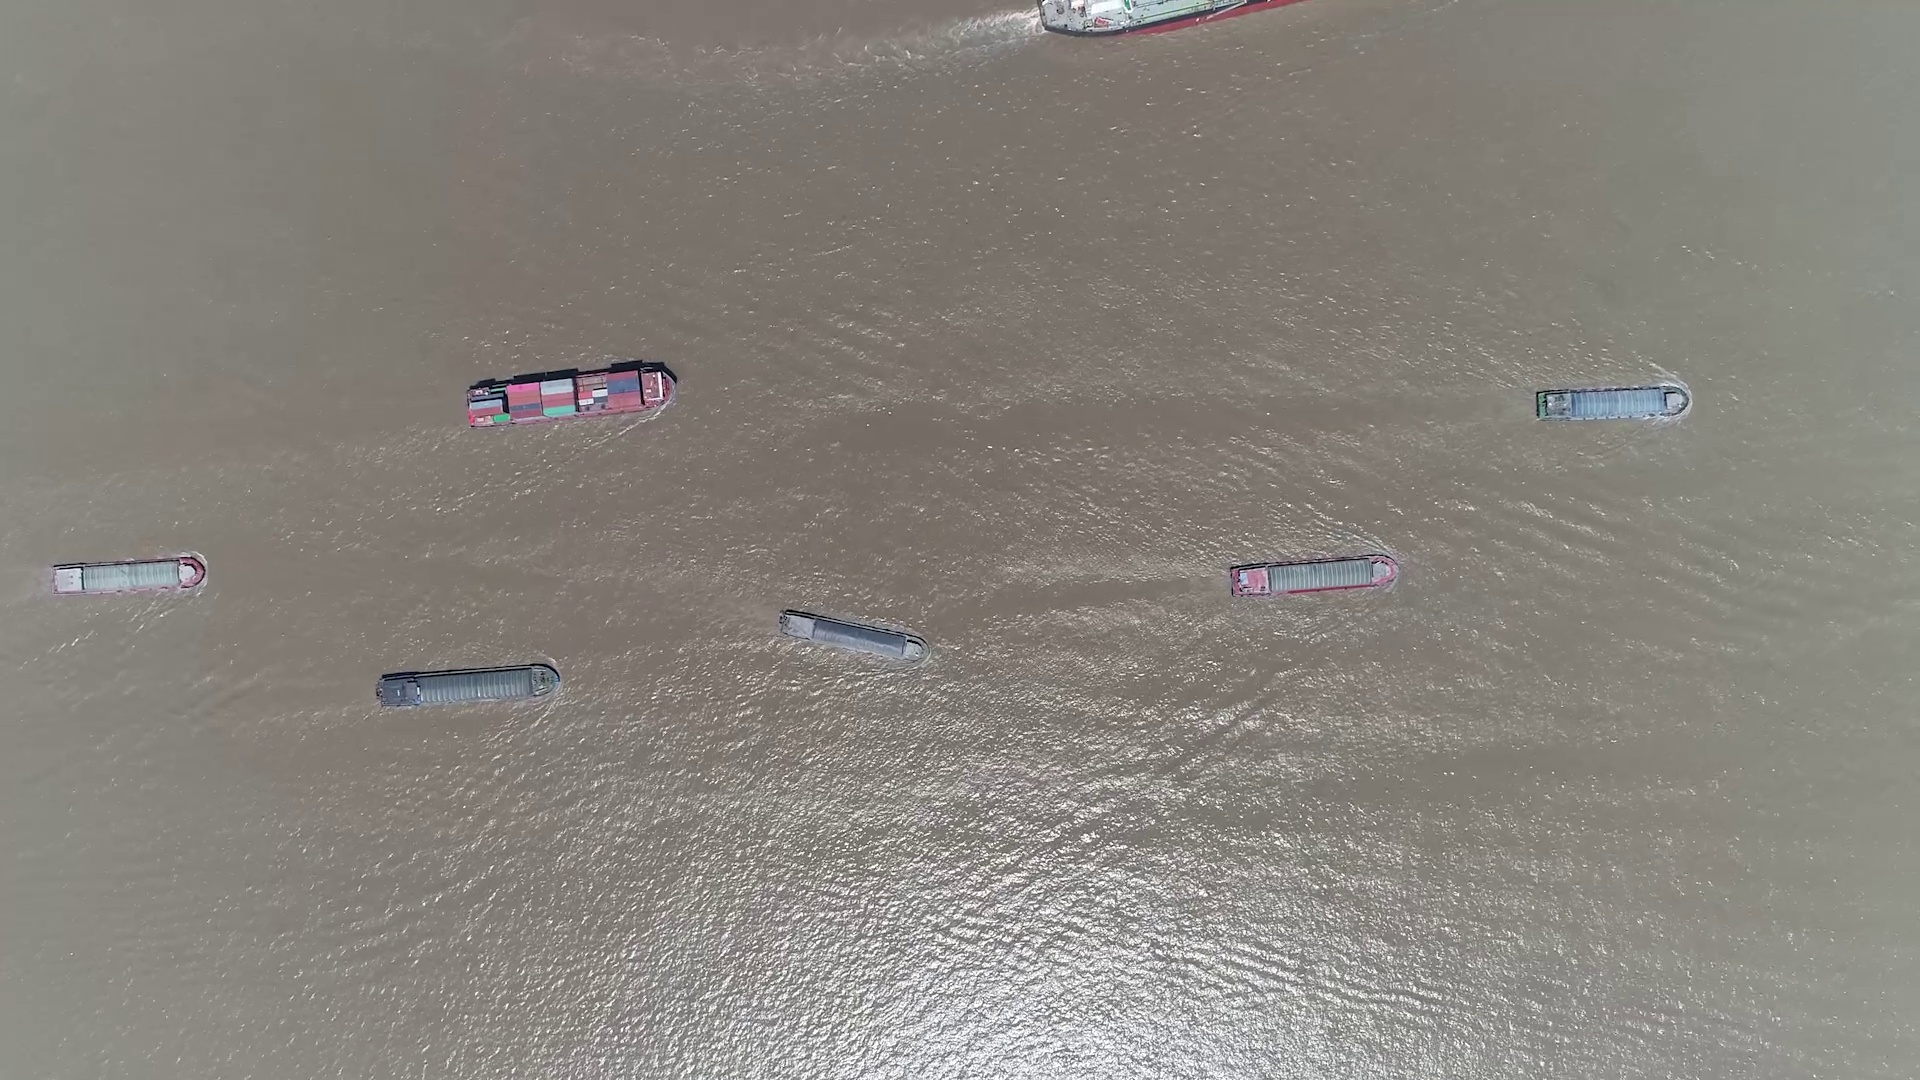ship: (467, 363, 676, 429), (376, 662, 560, 709), (1036, 1, 1307, 33), (777, 609, 926, 663), (1229, 554, 1400, 597), (47, 556, 204, 595), (1538, 386, 1687, 421)
